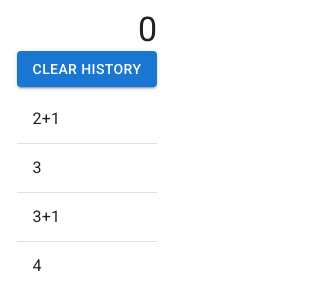
it: History › should display history item when going to this item
Click the button "3+1": click(46, 217) [33,207,60,226]
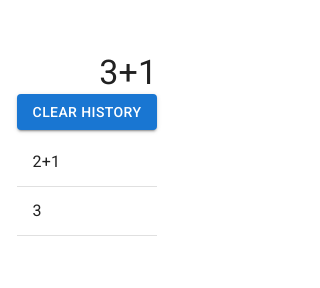
Now the heading with test id "console" reads "3+1", box [99,52,157,92]
